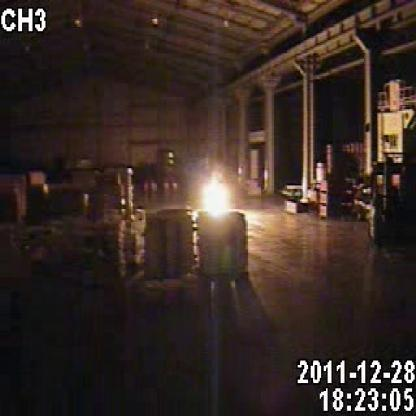fire: (174, 166, 255, 234)
